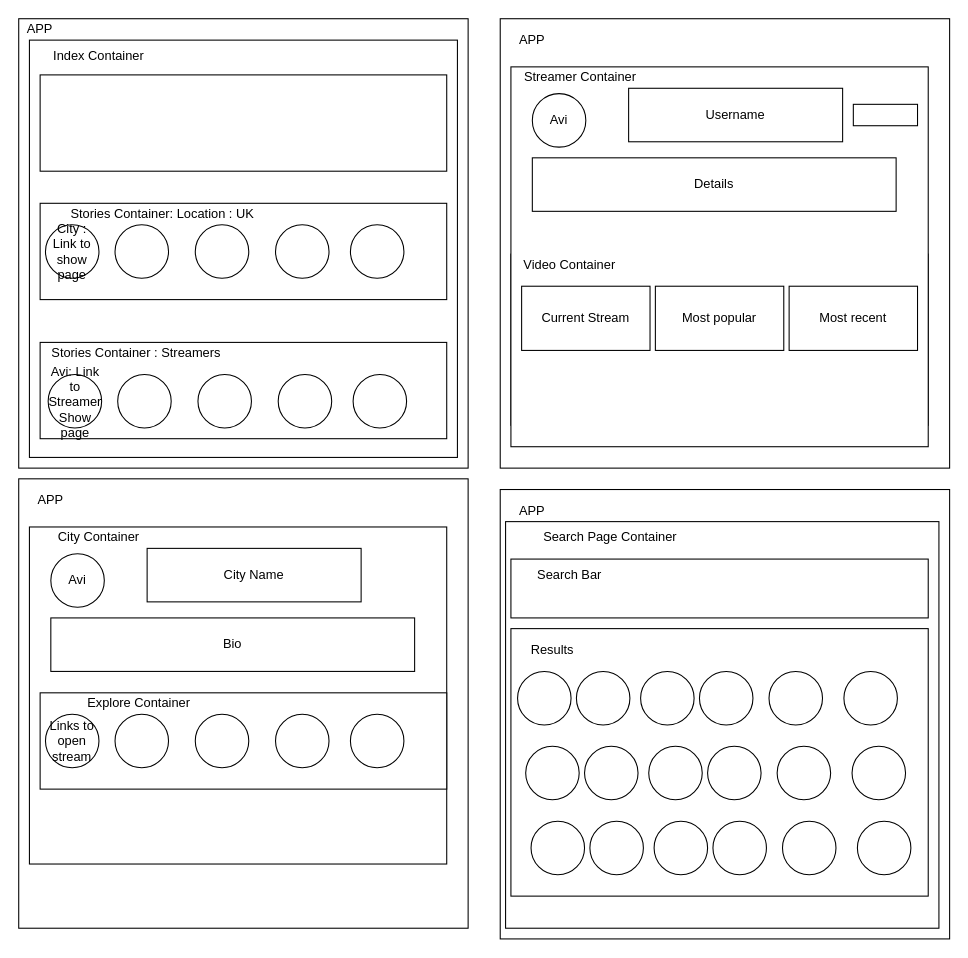
The diagram is 968 pixels wide and 958 high, and some of its shapes have lost their labels. The shapes that lost their labels are listed below. From the top down, each one's centre as x and y in pixels, then its label:
At [243,122]: "Phenomenon Search: Link to search page".
At [885,114]: "Follow".
